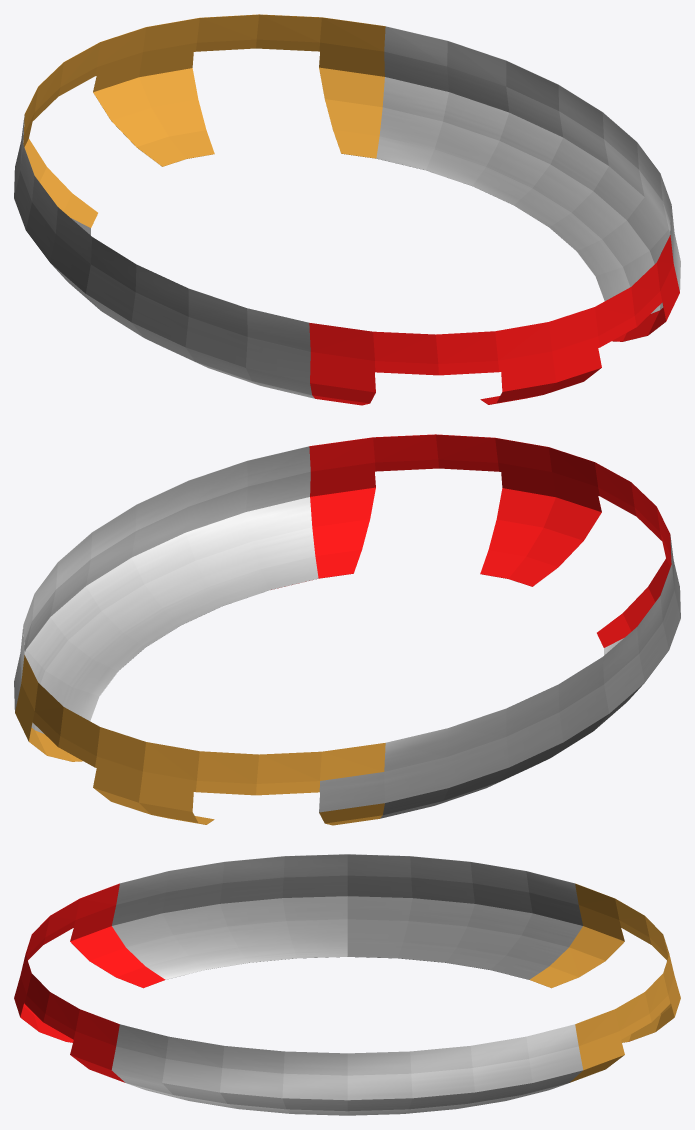
The model's file is stadion2.obj.
3 views of the same model, one above another, from view 1: azimuth 30°, elevation 25°; view 2: azimuth 150°, elevation 25°; view 3: azimuth 270°, elevation 25° (orthographic). The views are drawn at different scales.
Visible parts, largest first — view 1: Sphere; view 2: Sphere; view 3: Sphere.
Part boxes in pixels (x1,y1,x2,y2): Sphere: (14,14,680,405); Sphere: (14,434,680,825); Sphere: (14,854,680,1115).
Bounding box in the file's own units: 30.83 × 5.76 × 42.57.
